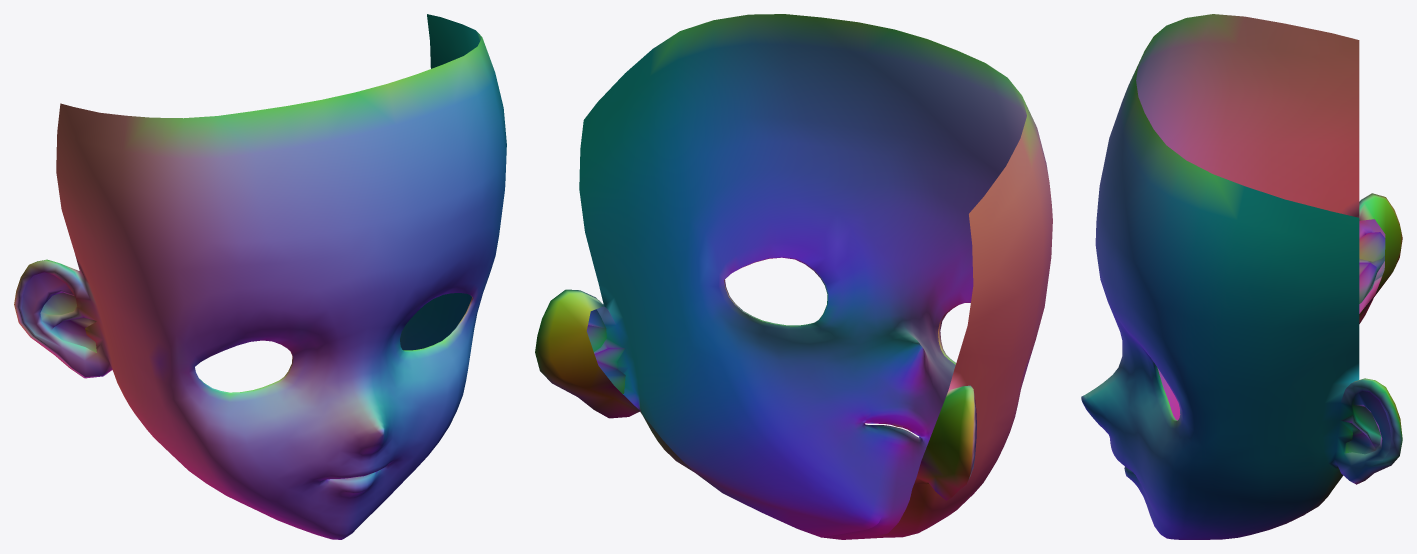
The model's file is SingleFace_Simple.fbx.
The picture shows the model from 3 angles, left to right: view 1: azimuth 30°, elevation 25°; view 2: azimuth 150°, elevation 25°; view 3: azimuth 270°, elevation 25°; orthographic projection. The views are drawn at different scales.
Visible parts, largest first — view 1: Face_mesh; view 2: Face_mesh; view 3: Face_mesh.
Part boxes in pixels (box(x1,y1,x2,y2)): Face_mesh: box(14, 14, 506, 539); Face_mesh: box(535, 14, 1052, 539); Face_mesh: box(1081, 14, 1402, 539).
Bounding box in the file's own units: 16.27 × 17.18 × 10.97.
